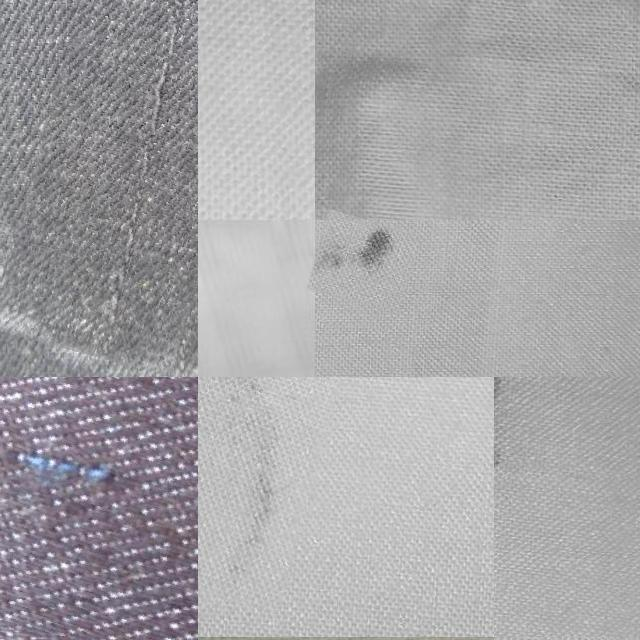Thread_other: (198, 377, 339, 602), (310, 214, 416, 308)
stains: (29, 0, 198, 369), (0, 377, 198, 640)
